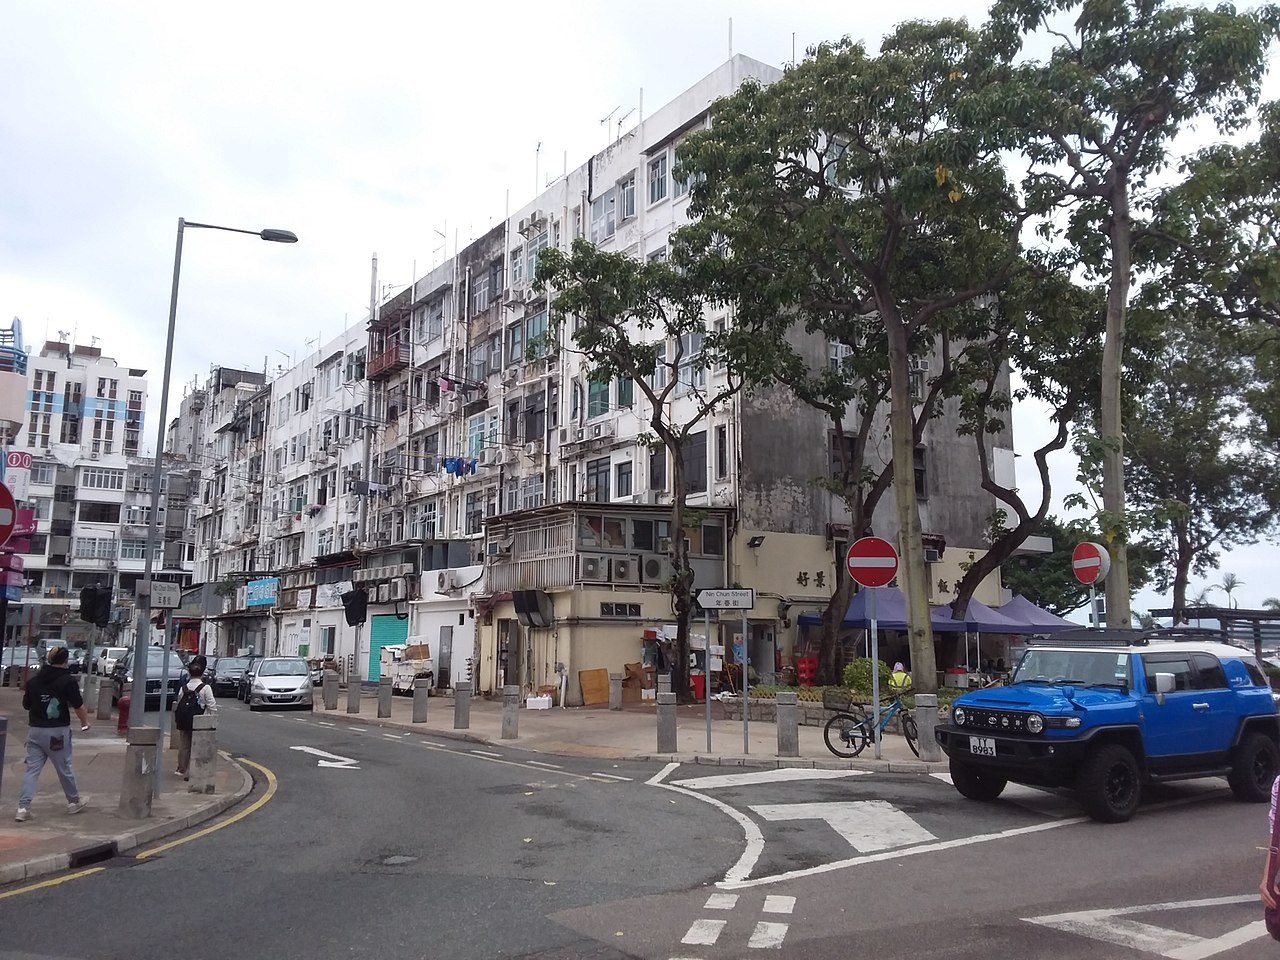No Enter: (845, 537, 901, 587), (1071, 544, 1111, 583)
